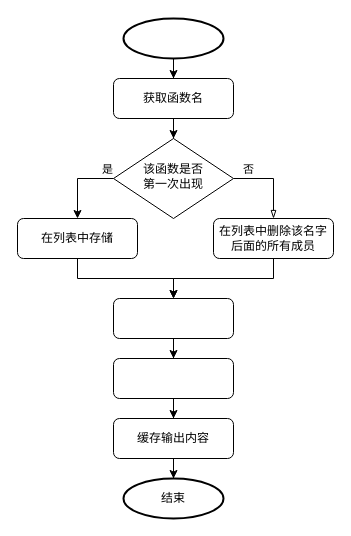
The diagram is 351 pixels wide and 536 high, and some of its shapes have lost their labels. The shapes that lost their labels are listed below. From the top down, each one's centre as x and y in pixels, then its label:
point (173, 38): 开始
point (173, 318): 添加单行输出格式
point (173, 378): 添加多行输出格式
